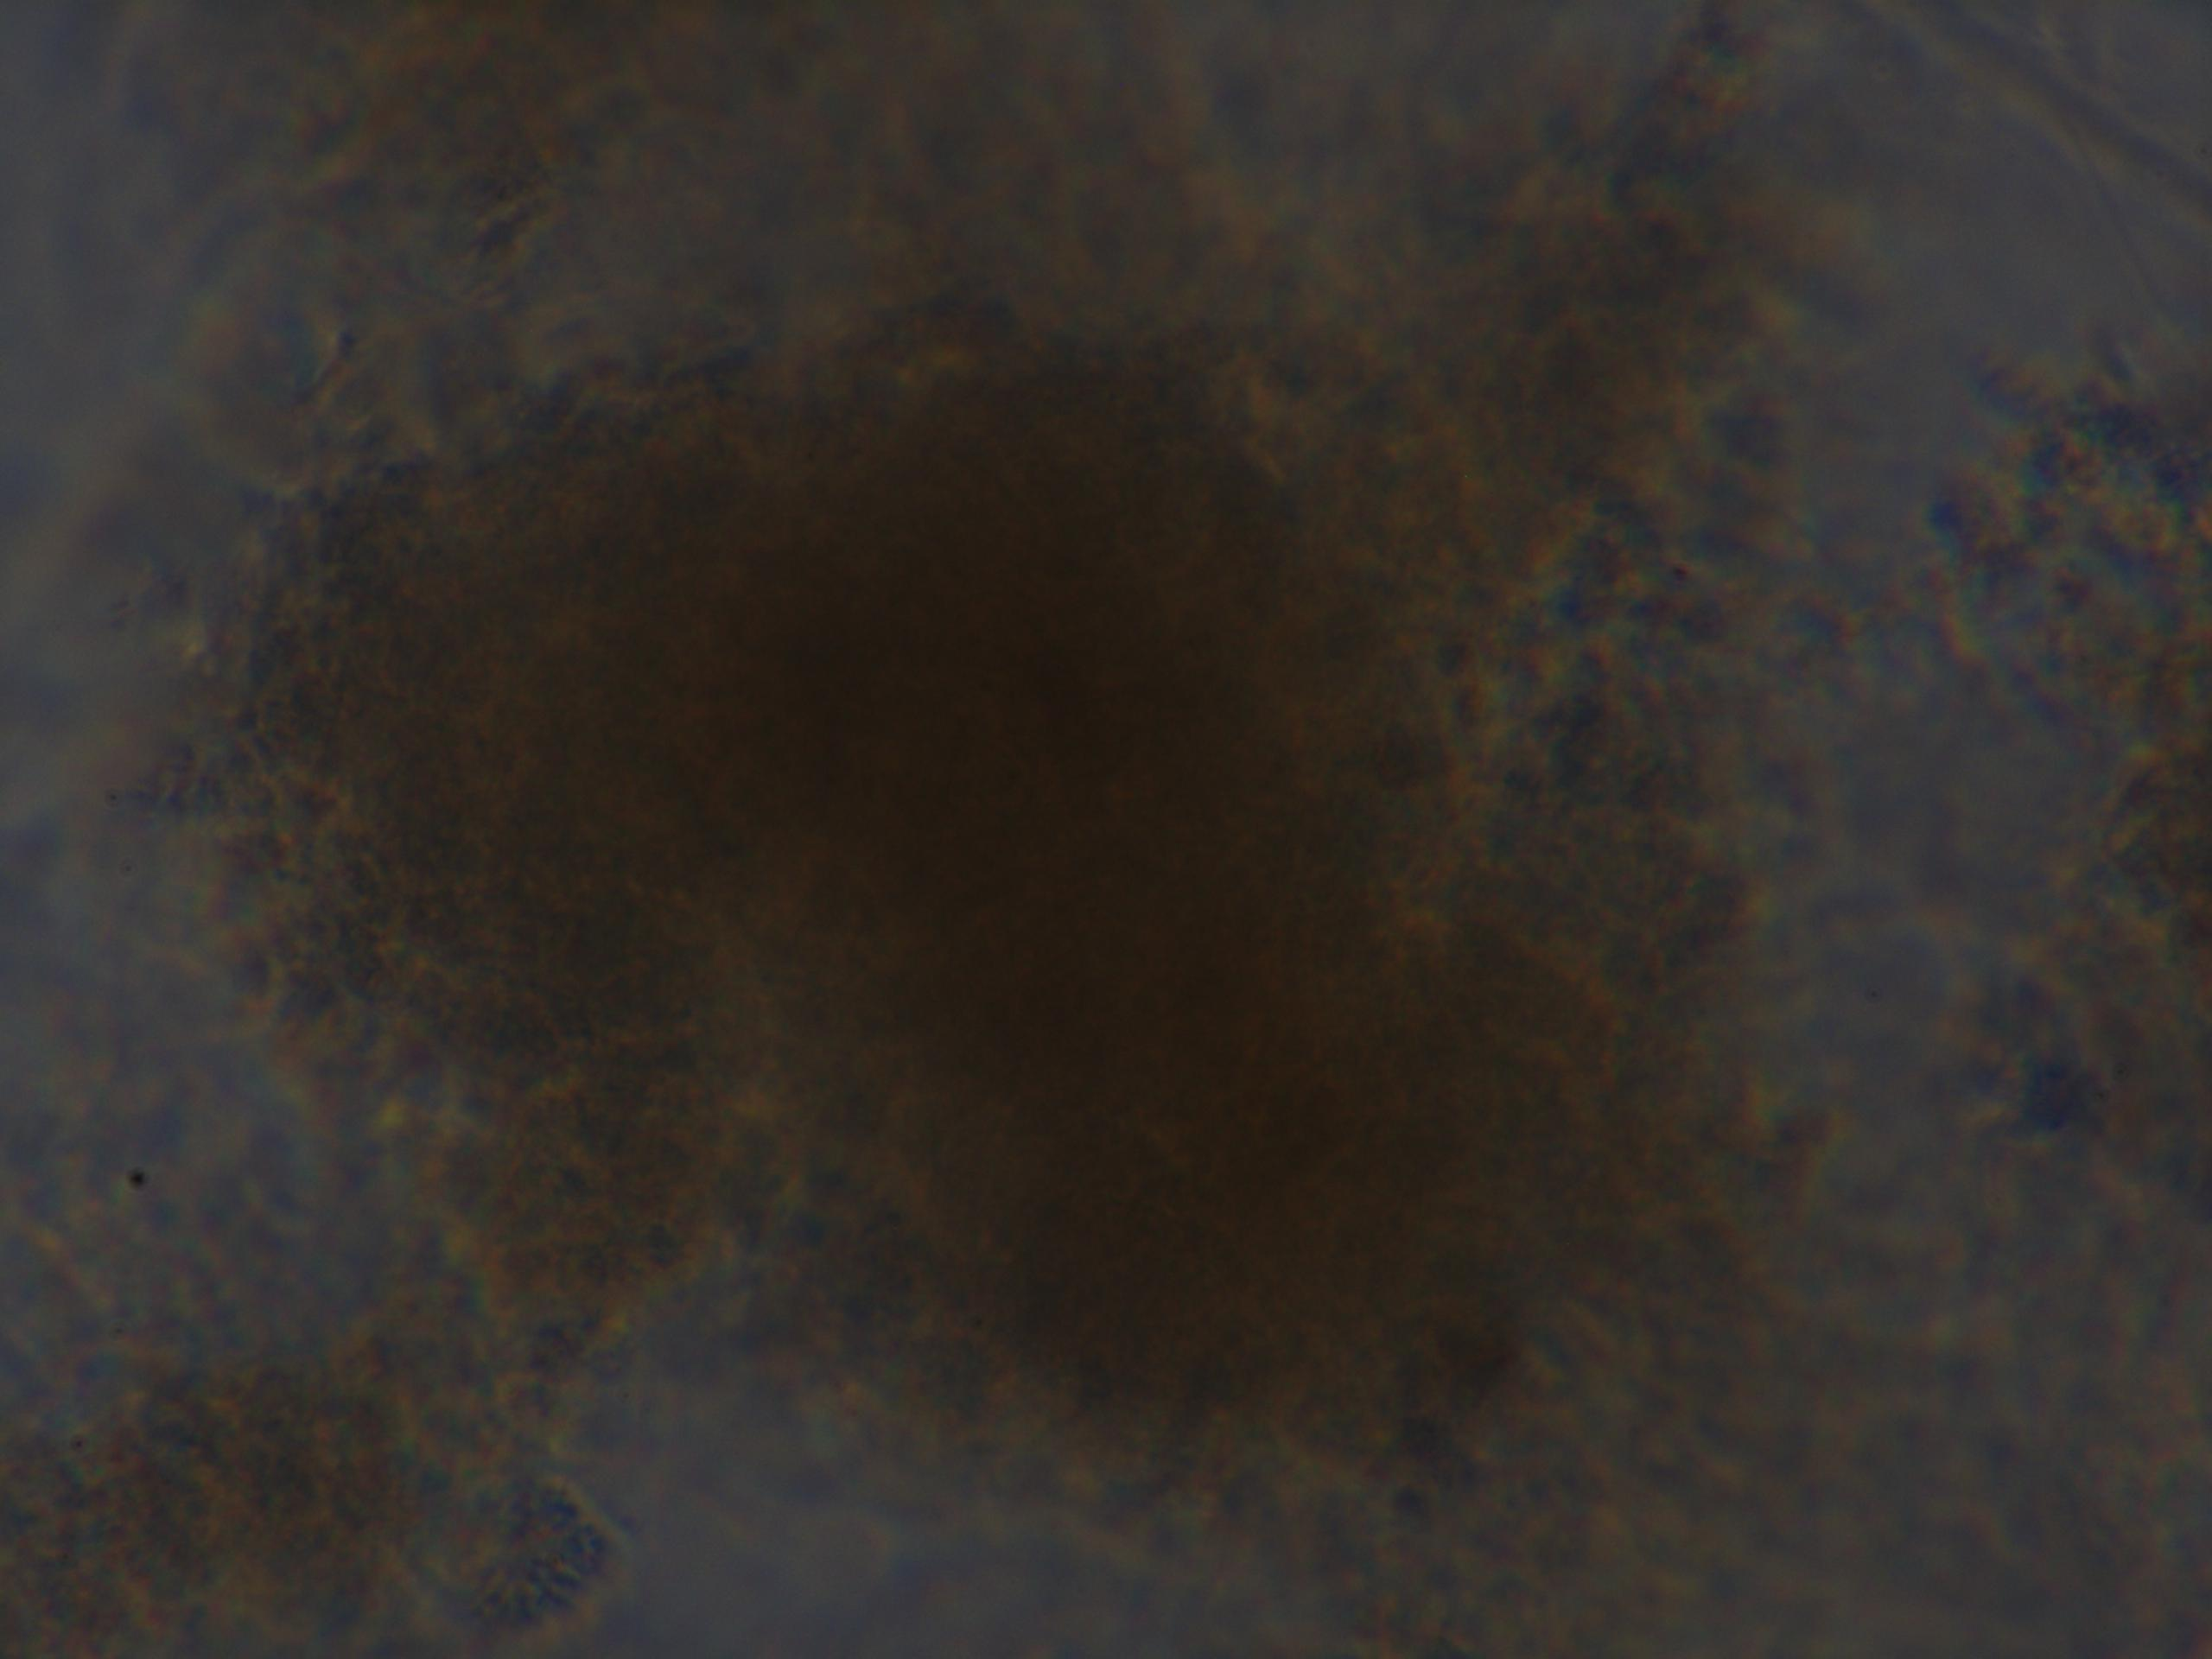spherical_floc: (199, 260, 1832, 1539)
